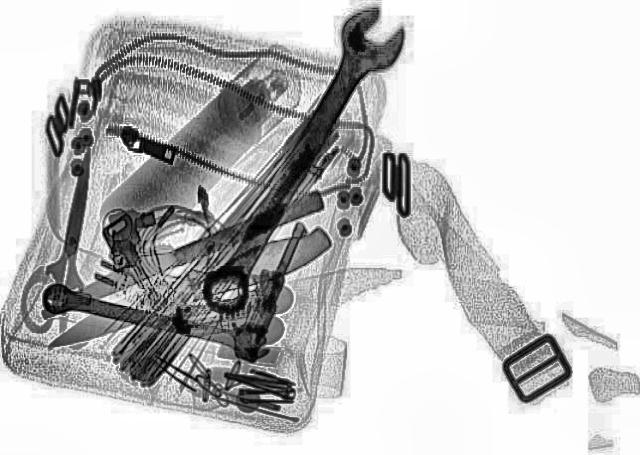Gun: (163, 208, 309, 358)
Knife: (31, 222, 342, 360), (31, 188, 330, 322), (40, 146, 109, 296)
Wrench: (182, 0, 420, 316), (32, 275, 280, 363)
